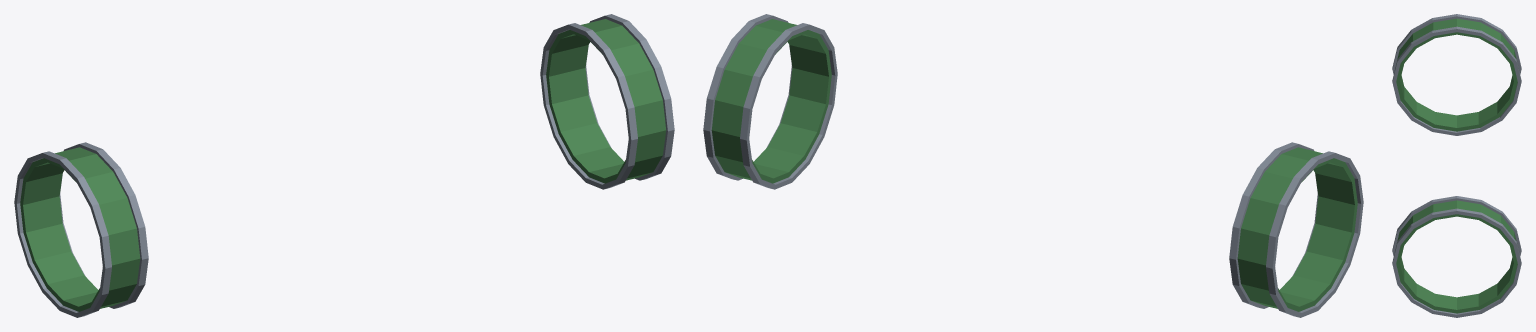
Rendered from armor_guard_arms_uncommon_orc.glb.
The picture shows the model from 3 angles, left to right: view 1: azimuth 30°, elevation 25°; view 2: azimuth 150°, elevation 25°; view 3: azimuth 270°, elevation 25°; orthographic projection. The views are drawn at different scales.
Parts seen in each view (by area): view 1: armor_guard_arms_uncommon_orc__lowerarm_l, armor_guard_arms_uncommon_orc__lowerarm_r; view 2: armor_guard_arms_uncommon_orc__lowerarm_l, armor_guard_arms_uncommon_orc__lowerarm_r; view 3: armor_guard_arms_uncommon_orc__lowerarm_l, armor_guard_arms_uncommon_orc__lowerarm_r.
Boxes of the visible parts, x1=… form: armor_guard_arms_uncommon_orc__lowerarm_l: x1=540, y1=14, x2=674, y2=189; armor_guard_arms_uncommon_orc__lowerarm_r: x1=14, y1=142, x2=148, y2=317; armor_guard_arms_uncommon_orc__lowerarm_l: x1=703, y1=14, x2=837, y2=189; armor_guard_arms_uncommon_orc__lowerarm_r: x1=1229, y1=142, x2=1363, y2=317; armor_guard_arms_uncommon_orc__lowerarm_l: x1=1392, y1=196, x2=1521, y2=317; armor_guard_arms_uncommon_orc__lowerarm_r: x1=1392, y1=14, x2=1521, y2=135.
Bounding box in the file's own units: 118 × 29.81 × 32.58.
